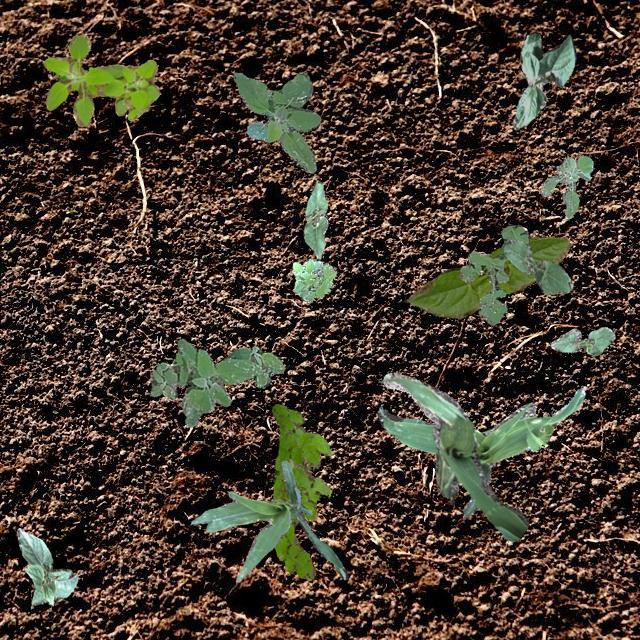crop: (376, 386, 584, 518), (381, 372, 526, 540), (190, 458, 348, 582), (406, 236, 568, 316), (512, 33, 574, 128), (15, 526, 76, 604), (501, 238, 572, 294), (302, 180, 326, 258), (550, 326, 614, 354)
weed: (150, 338, 284, 426), (270, 402, 330, 580), (43, 34, 158, 126), (232, 72, 320, 172), (458, 223, 528, 324), (540, 154, 592, 218), (292, 258, 334, 300)
